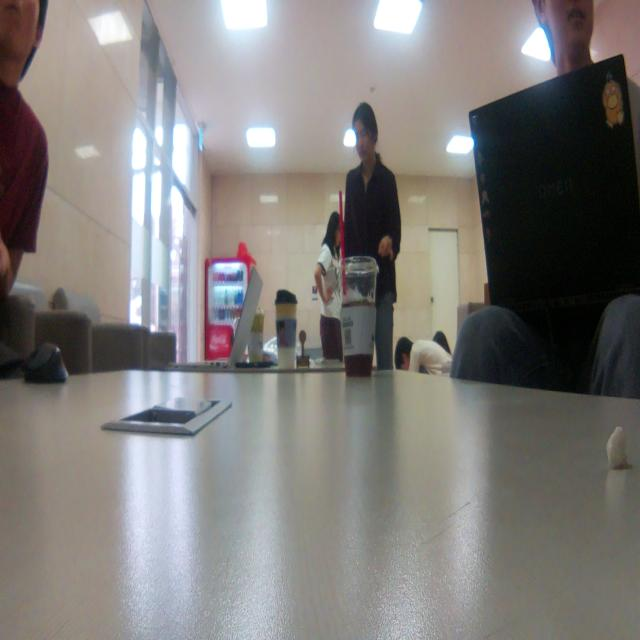target: (296, 329, 310, 368)
